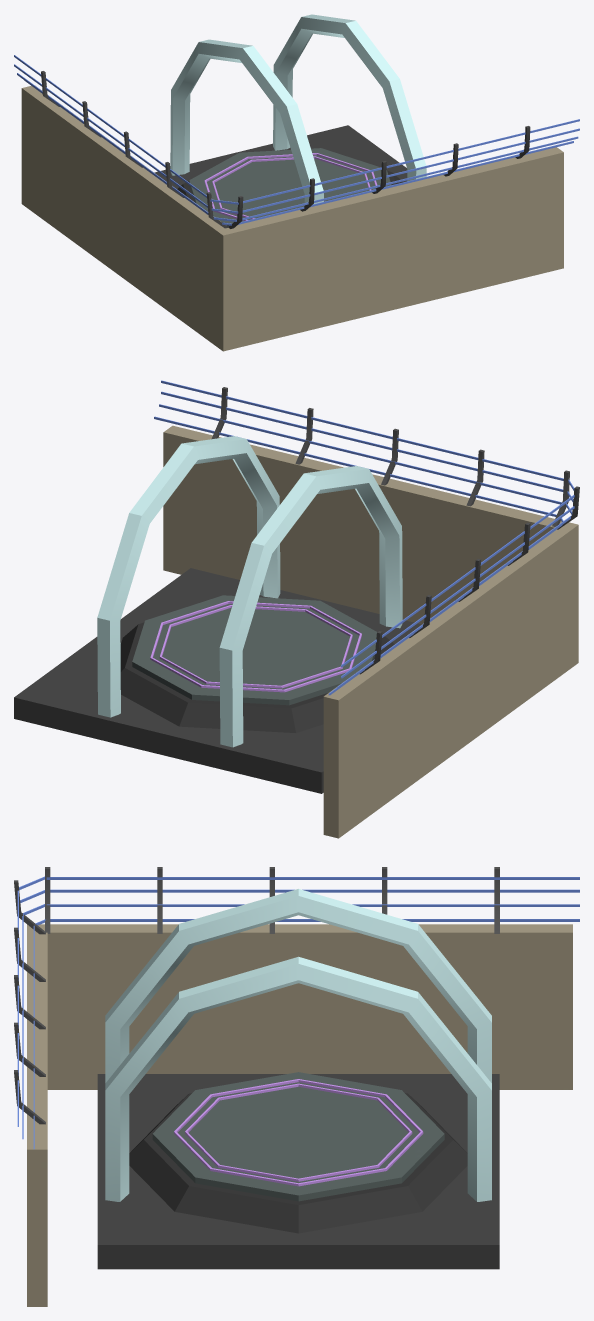
Rendered from Maintenance_Yard_01.fbx.
3 views of the same model, one above another, from view 1: azimuth 30°, elevation 25°; view 2: azimuth 150°, elevation 25°; view 3: azimuth 270°, elevation 25° (orthographic). The views are drawn at different scales.
Visible parts, largest first — view 1: Maintenance_Yard_01; view 2: Maintenance_Yard_01; view 3: Maintenance_Yard_01.
Part boxes in pixels (bbox=[...]): Maintenance_Yard_01: bbox=[14, 14, 579, 351]; Maintenance_Yard_01: bbox=[14, 380, 579, 838]; Maintenance_Yard_01: bbox=[14, 867, 579, 1306].
Bounding box in the file's own units: 24.16 × 12.83 × 24.19.
2 materials, 2 textured.
